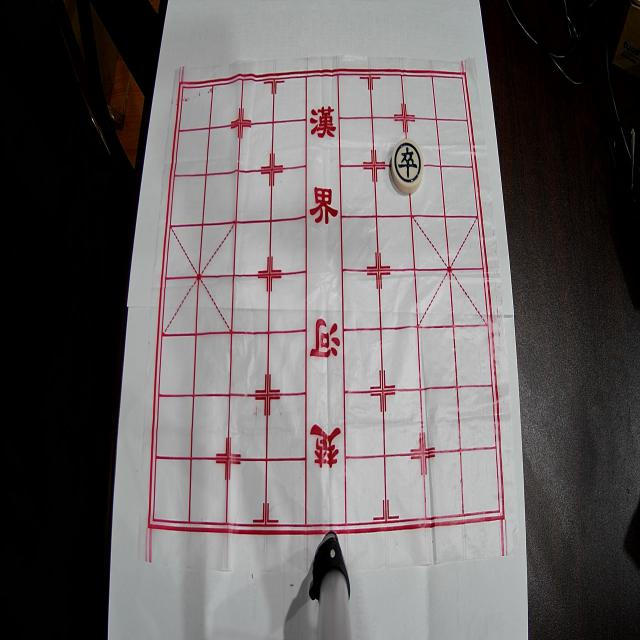black-soldier: (391, 139, 424, 193)
